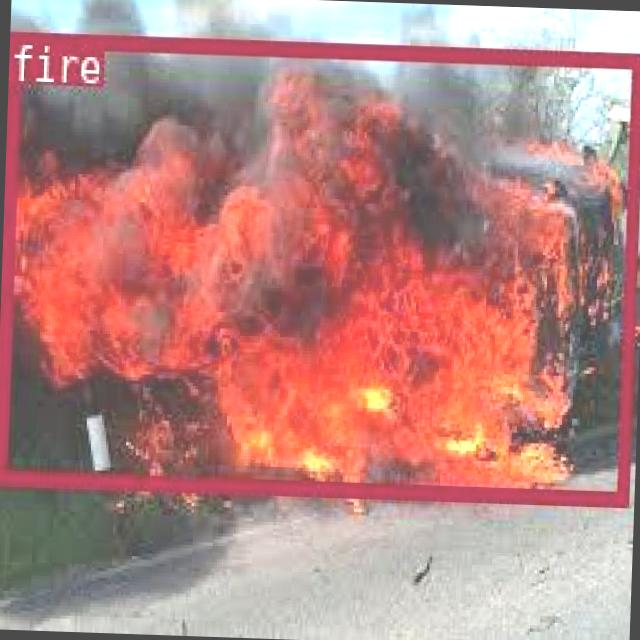fire: (0, 28, 640, 501)
